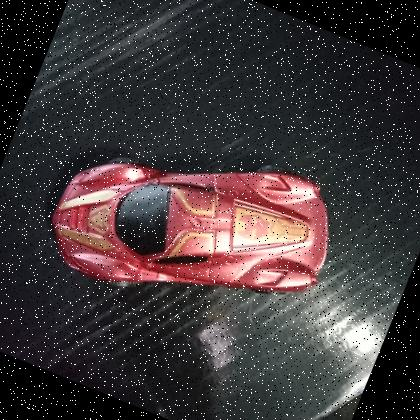Car: (27, 84, 360, 366)
